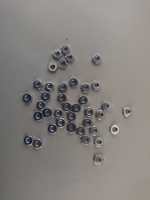nut: (23, 136, 34, 146), (33, 139, 43, 150), (34, 111, 44, 122), (48, 124, 58, 135), (110, 125, 120, 136), (123, 107, 133, 118), (102, 101, 112, 112), (96, 110, 106, 121), (84, 107, 94, 118), (67, 123, 77, 134), (56, 119, 67, 129), (54, 109, 64, 120), (37, 100, 47, 111), (33, 80, 44, 90), (48, 62, 58, 73), (94, 155, 104, 165), (22, 94, 32, 104), (94, 138, 104, 148), (82, 136, 92, 146), (83, 118, 93, 128), (90, 126, 100, 136), (43, 108, 53, 118), (65, 53, 75, 63), (61, 44, 71, 54), (52, 49, 62, 59), (58, 58, 68, 68), (91, 81, 101, 91), (69, 78, 79, 88), (81, 83, 91, 93), (79, 96, 89, 106), (58, 83, 68, 93), (42, 92, 52, 102), (57, 93, 67, 103), (63, 102, 73, 112), (67, 113, 77, 123), (71, 104, 81, 114), (93, 54, 102, 64), (45, 82, 54, 92), (78, 127, 85, 136)
